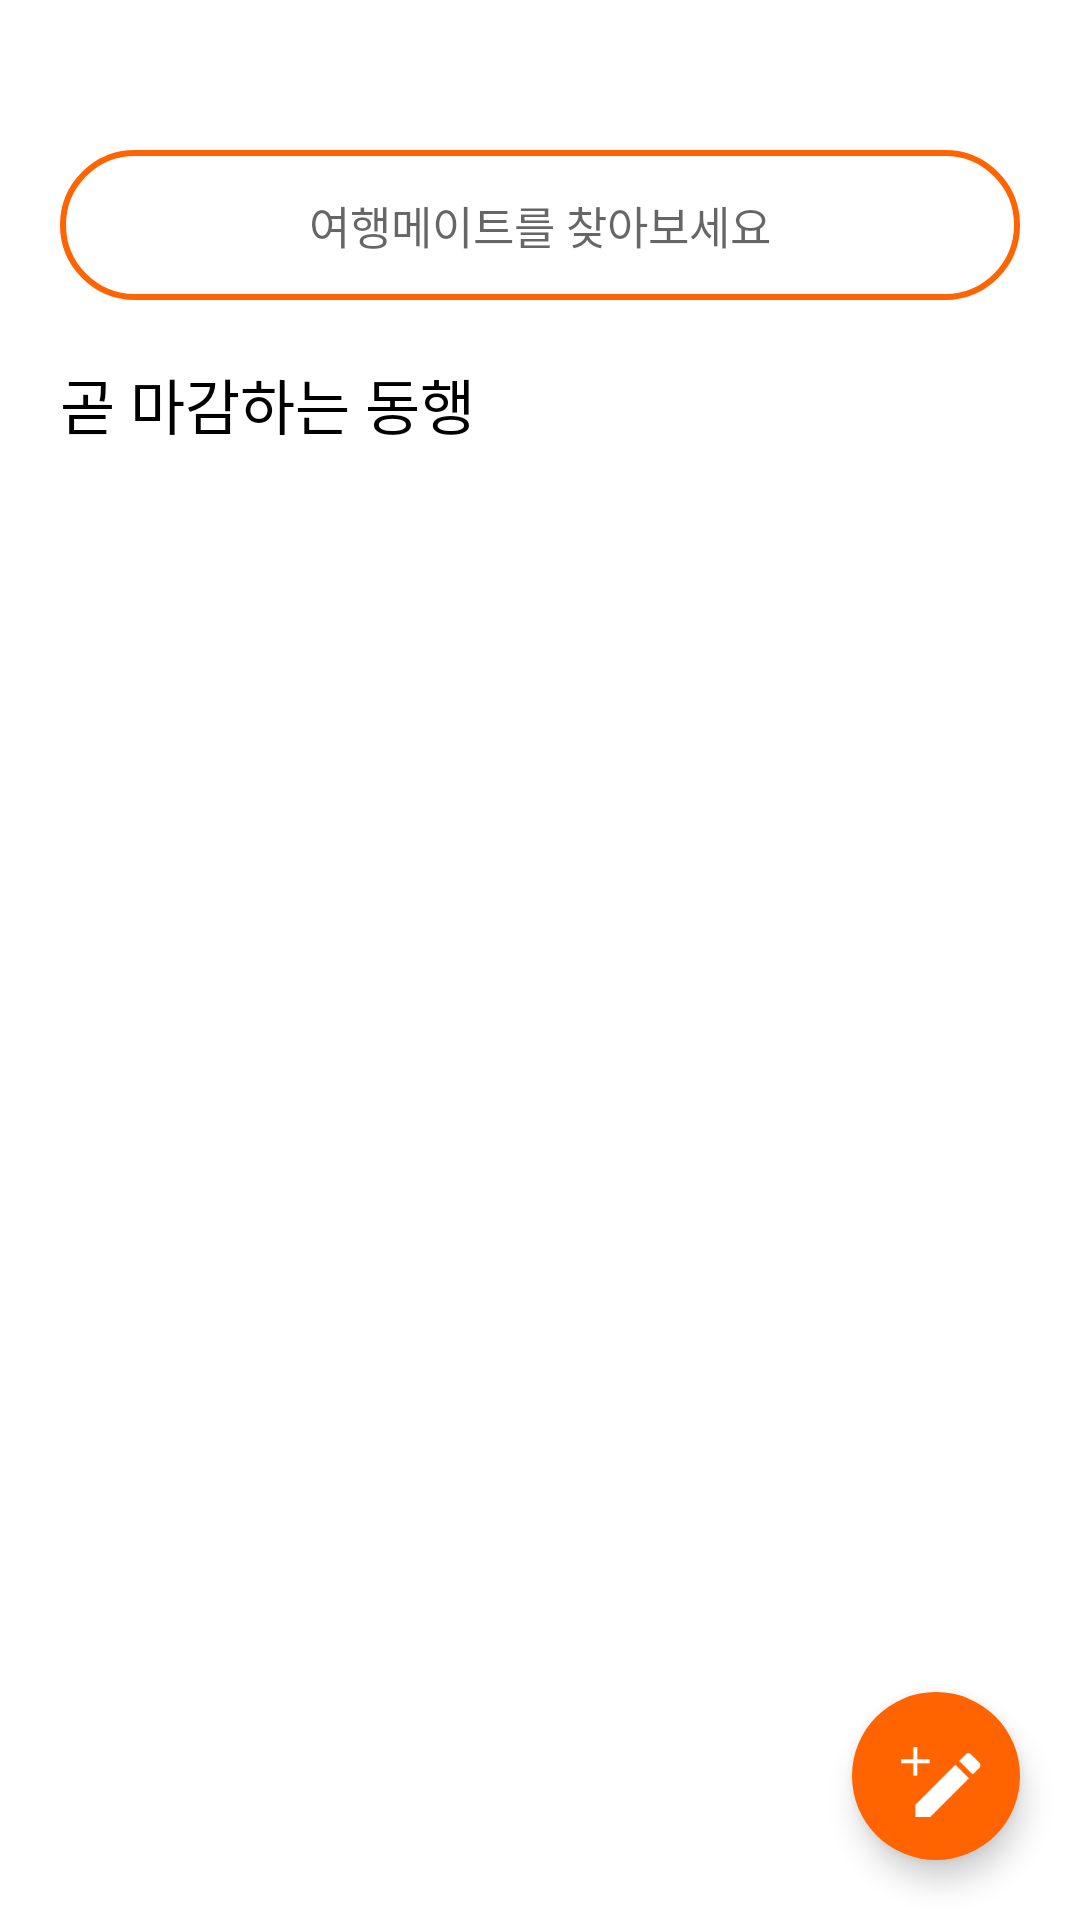

Icons on this 1080w x 1920h Android screen, each with its box as Rect(x1, y1, x2, y2):
add write: Rect(852, 1692, 1020, 1860)
